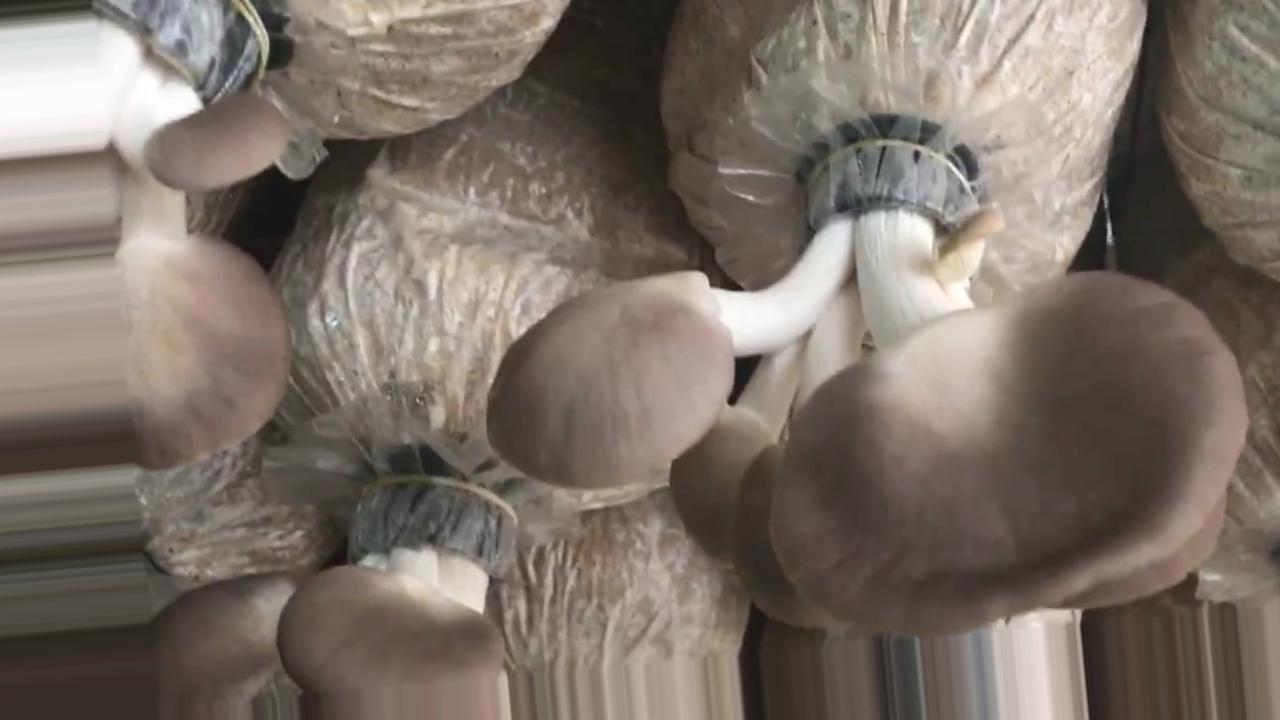nam: (488, 125, 1241, 641), (1, 1, 295, 475), (149, 481, 505, 720)
